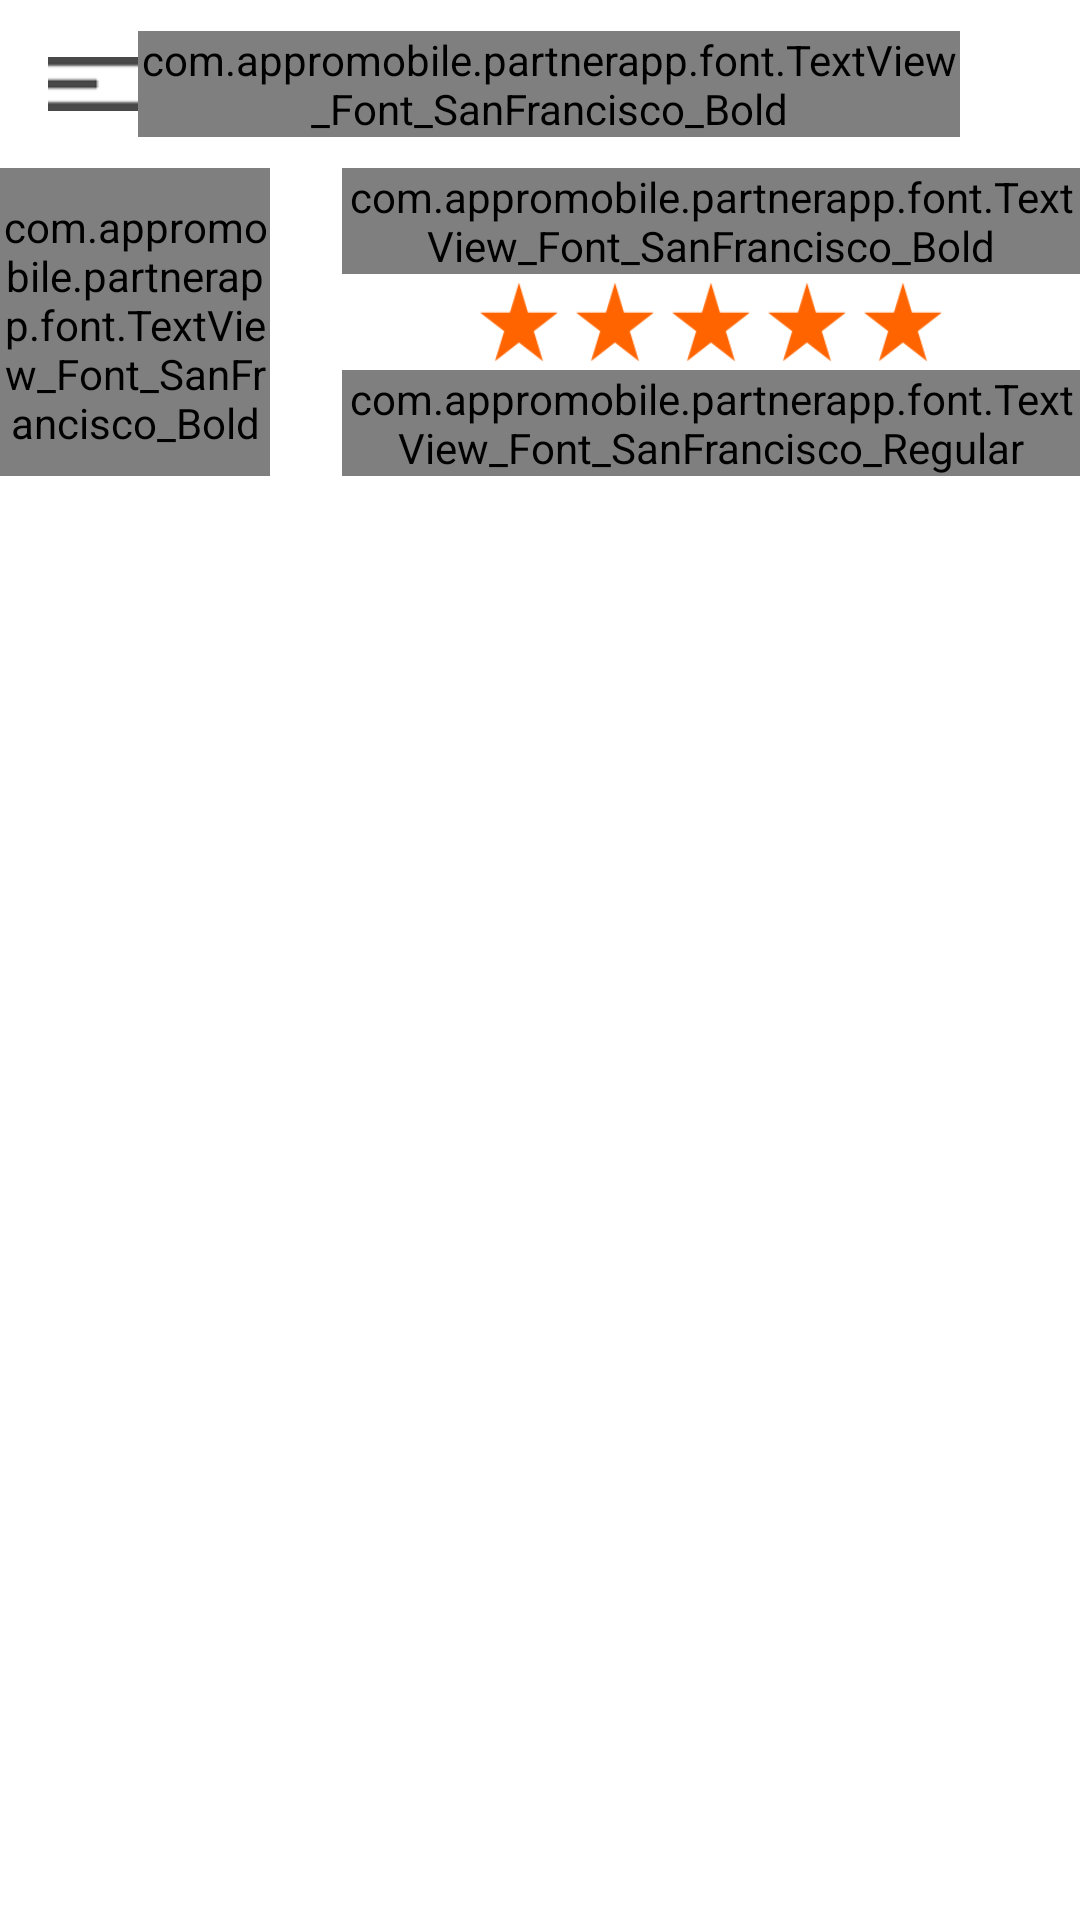

Screen size 1080×1920. Icon name, then its center in pixels as [x,y]:
menu: [93,84]
star: [519,322], [615,322], [711,322], [807,322], [903,322]
